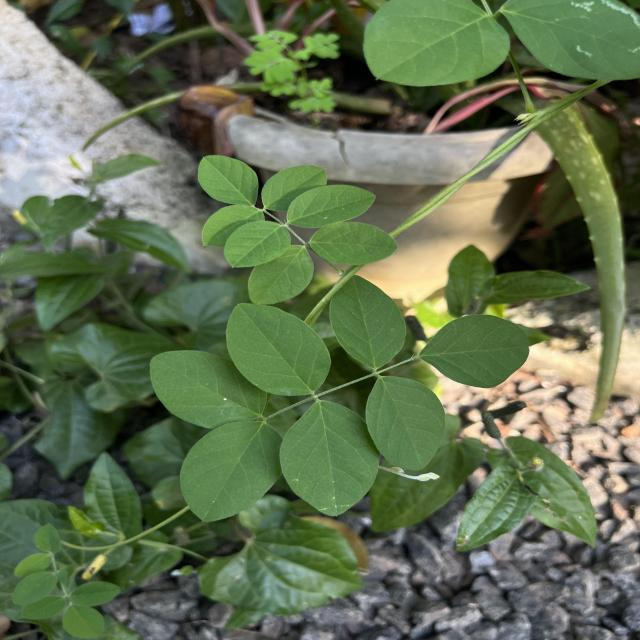Clitoria ternatea: (278, 400, 382, 518), (179, 419, 283, 524), (225, 302, 332, 398), (148, 349, 269, 431), (416, 313, 531, 389), (364, 375, 446, 472), (328, 274, 408, 371), (286, 184, 378, 229), (308, 222, 399, 266), (222, 220, 292, 270), (197, 154, 259, 207)
